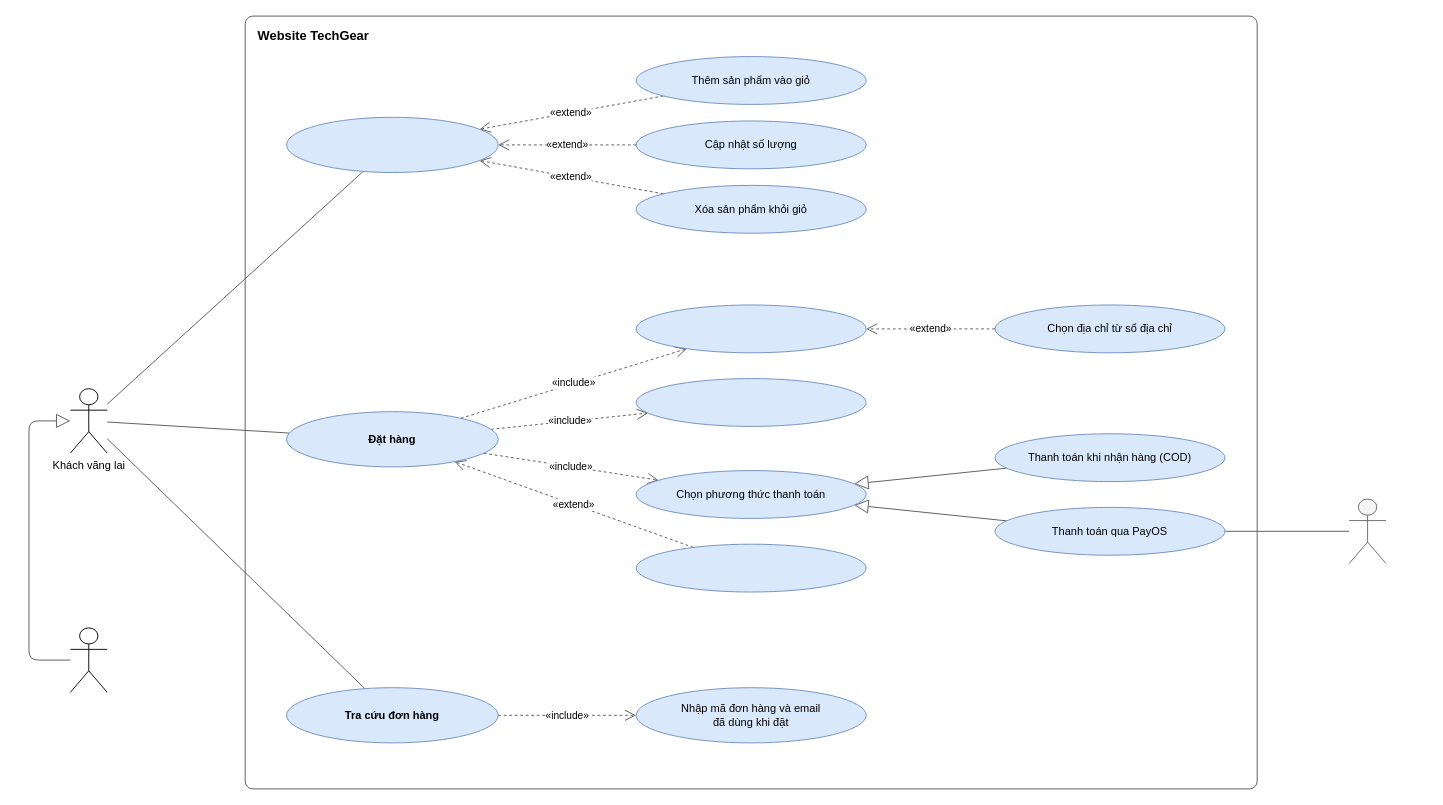
This 1443x805 diagram has some shape labels left out. Here are the shapes that lost their labels. From the top down, the centre of each, then its label:
At (x=392, y=144): "Quản lý giỏ hàng".
At (x=750, y=328): "Nhập thông tin giao hàng".
At (x=750, y=402): "Kiểm tra tồn kho".
At (x=1367, y=531): "Cổng thanh toán PayOS".
At (x=750, y=567): "Áp dụng mã giảm giá".
At (x=88, y=659): "Khách hàng".
